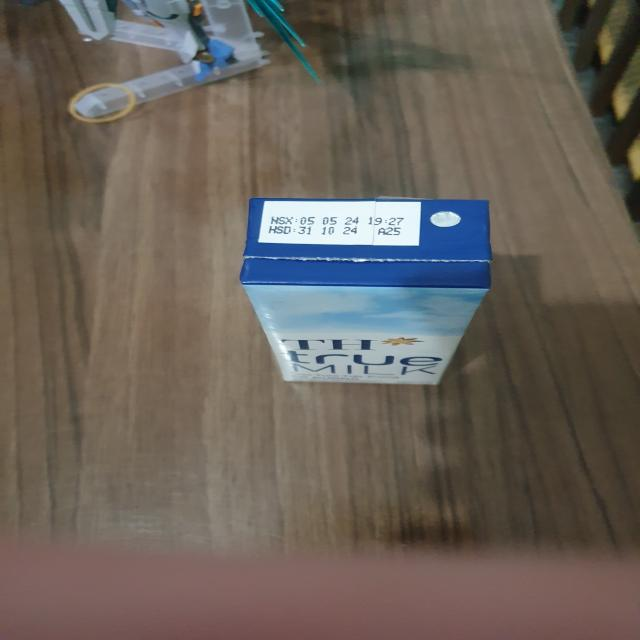TH: (237, 198, 498, 388)
